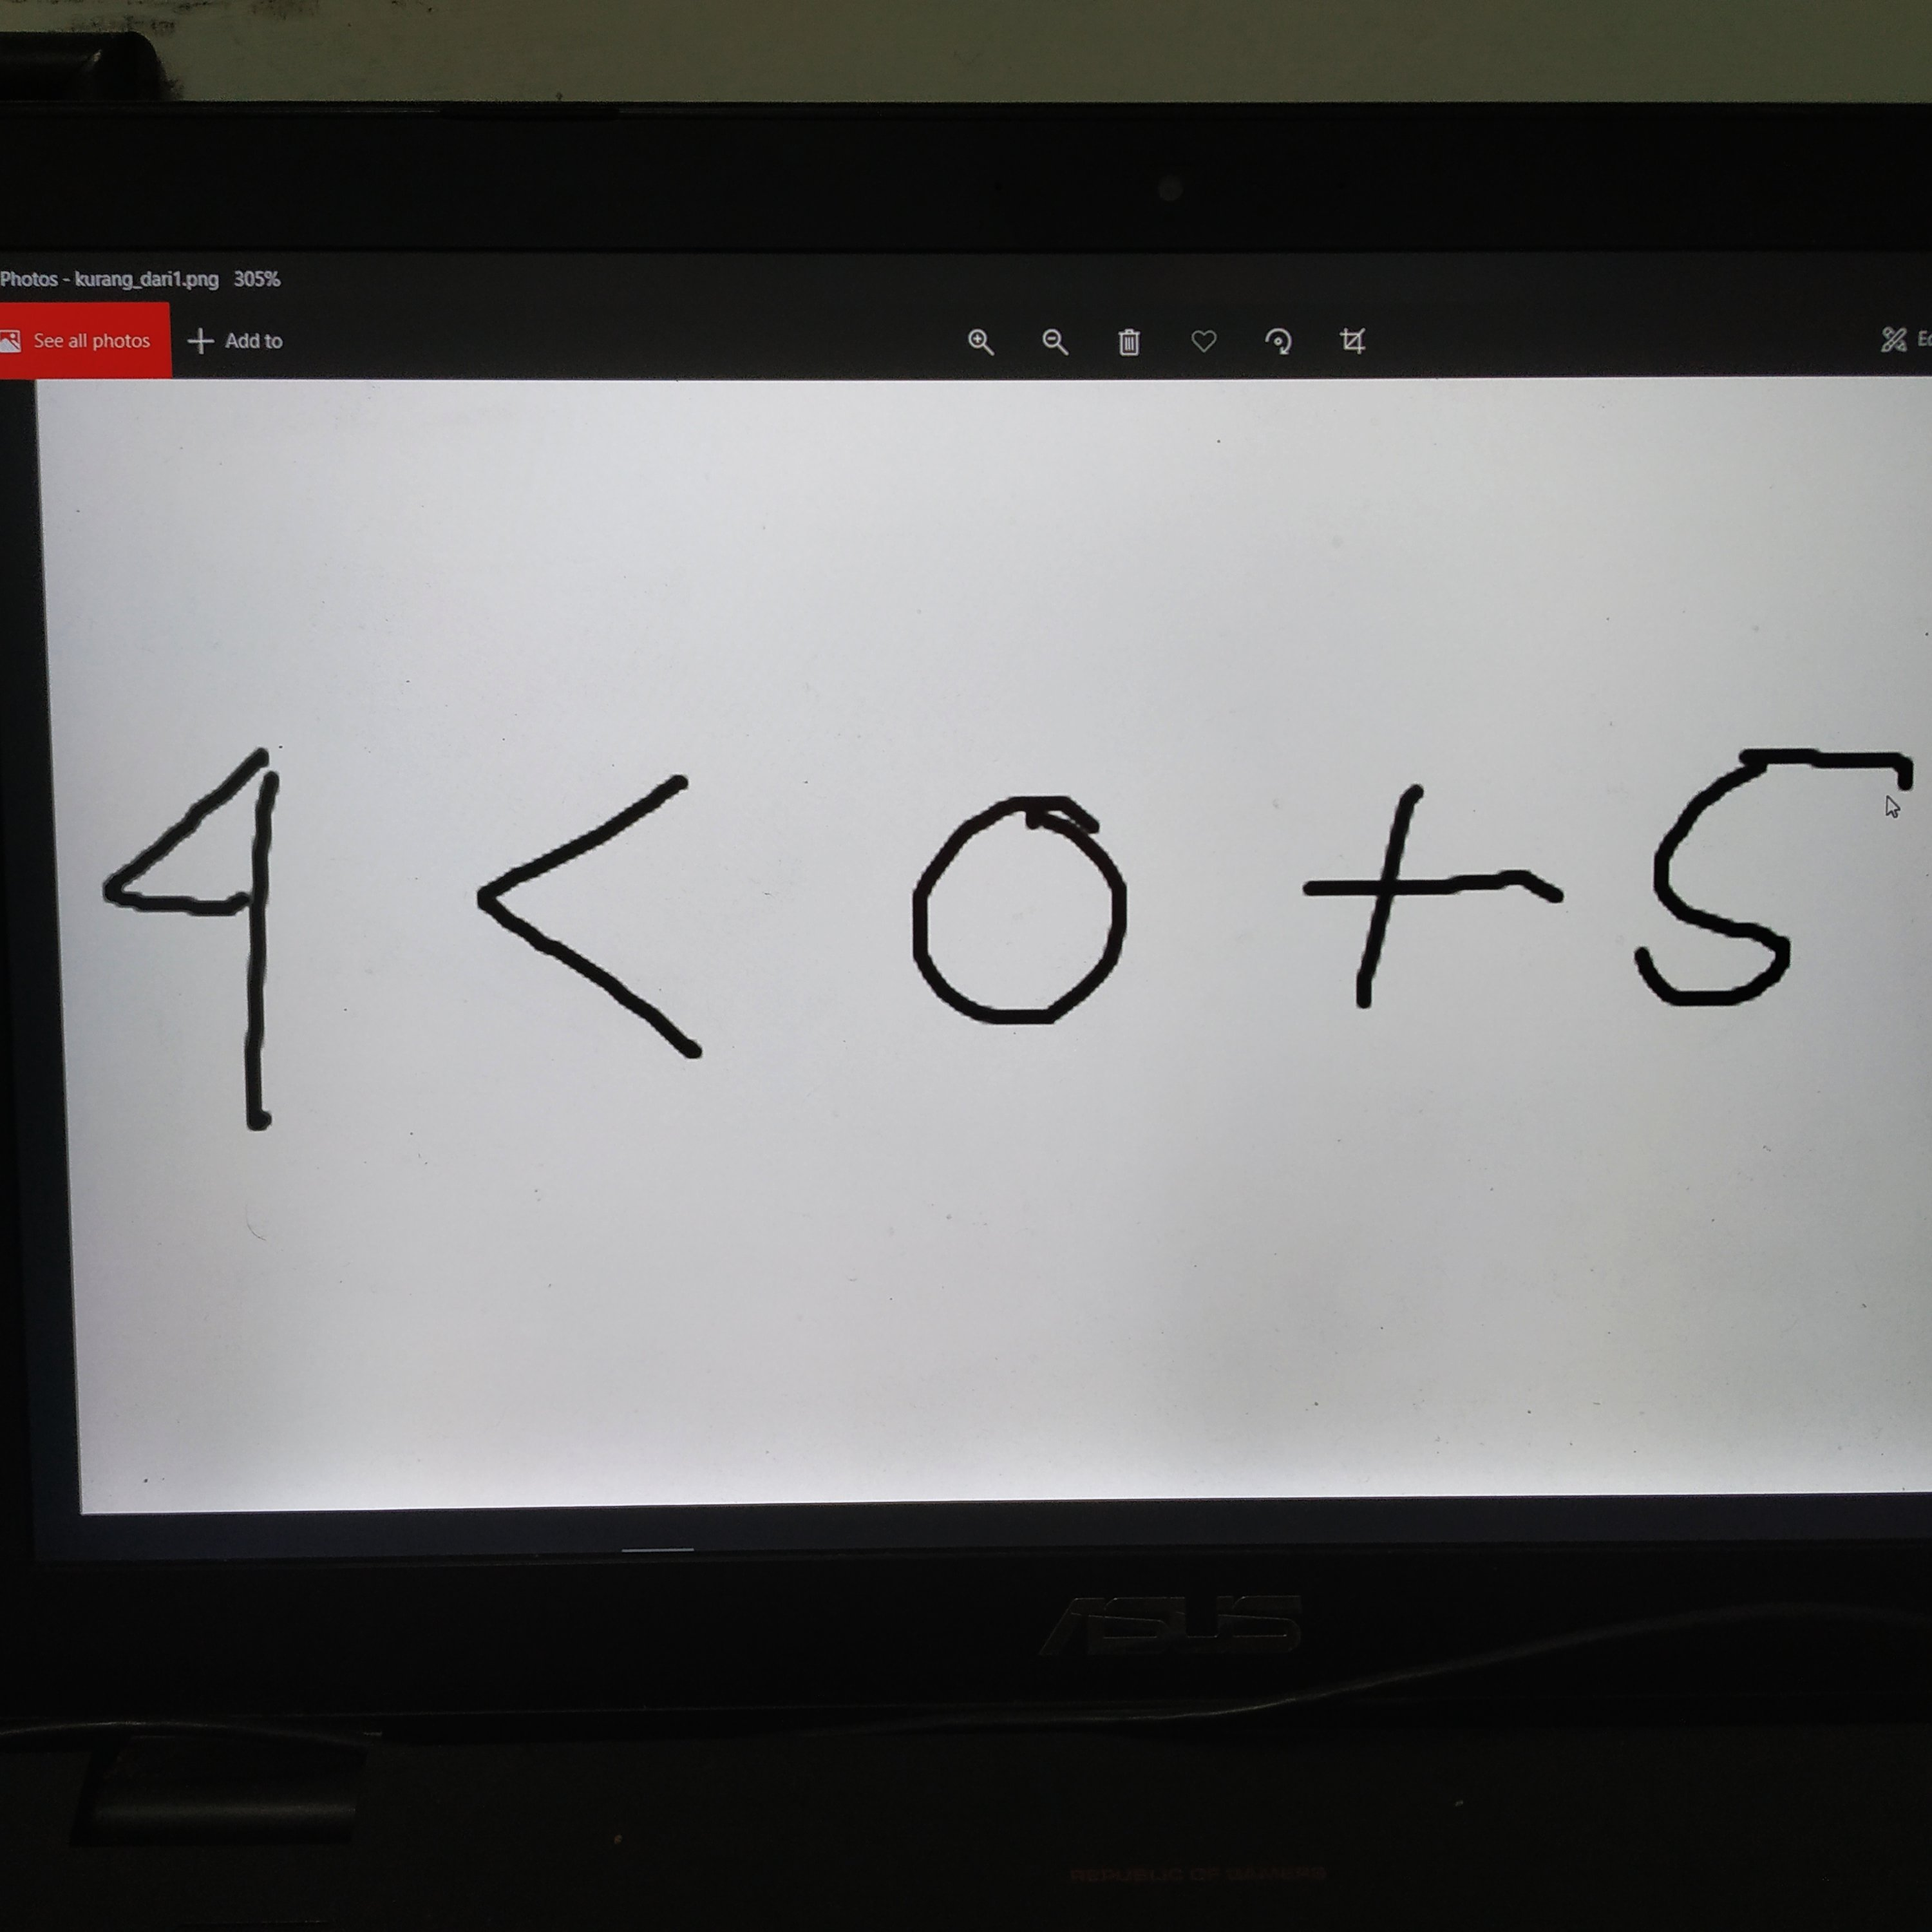lessthan: (463, 755, 746, 1081)
num0: (898, 778, 1164, 1036)
num4: (75, 710, 346, 1172)
num5: (1624, 731, 1925, 1047)
sum: (1293, 770, 1569, 1020)
